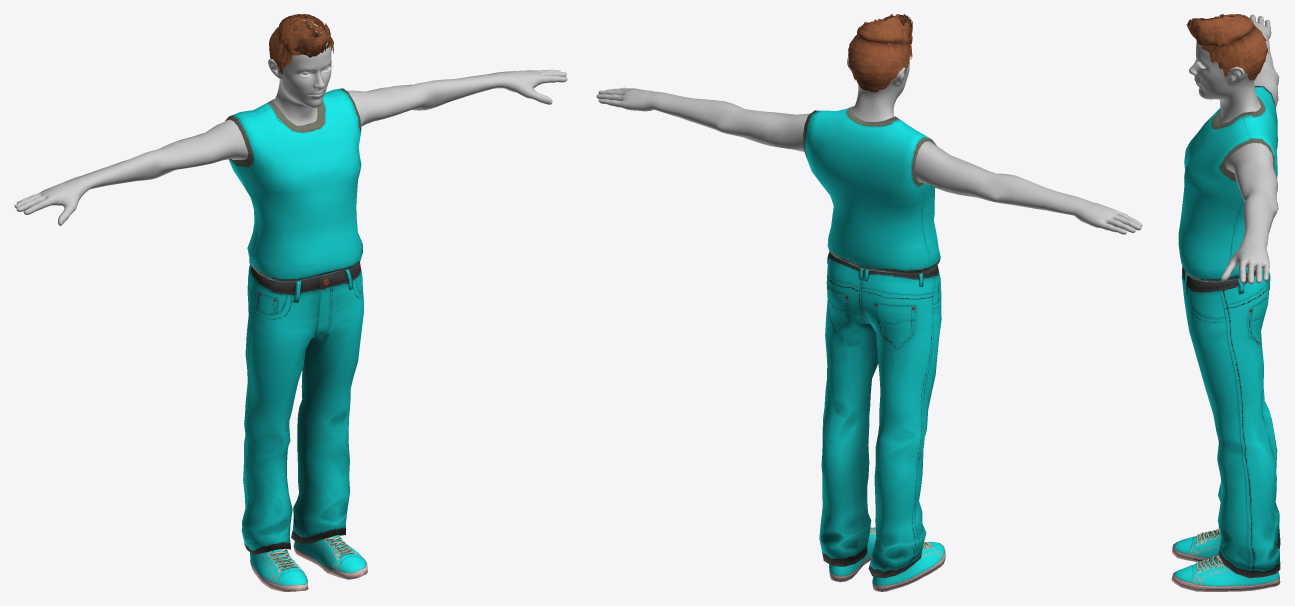
Rendered from Aren_jail.obj.
3 views of the same model, side by side, from view 1: azimuth 30°, elevation 25°; view 2: azimuth 150°, elevation 25°; view 3: azimuth 270°, elevation 25° (orthographic).
Parts seen in each view (by area): view 1: Bottoms, Tops, Body, Shoes, Hair; view 2: Bottoms, Tops, Body, Hair, Shoes; view 3: Bottoms, Tops, Body, Hair, Shoes.
Boxes of the visible parts, x1=… form: Bottoms: x1=241, y1=263, x2=363, y2=554; Tops: x1=225, y1=88, x2=362, y2=282; Body: x1=14, y1=19, x2=567, y2=225; Shoes: x1=250, y1=535, x2=367, y2=591; Hair: x1=269, y1=14, x2=333, y2=74; Bottoms: x1=819, y1=251, x2=941, y2=578; Tops: x1=803, y1=106, x2=940, y2=274; Body: x1=596, y1=35, x2=1142, y2=234; Hair: x1=848, y1=14, x2=912, y2=92; Shoes: x1=829, y1=527, x2=945, y2=591; Bottoms: x1=1181, y1=266, x2=1280, y2=578; Tops: x1=1178, y1=86, x2=1277, y2=282; Body: x1=1189, y1=14, x2=1279, y2=284; Hair: x1=1186, y1=14, x2=1268, y2=80; Shoes: x1=1171, y1=528, x2=1280, y2=591.
Bounding box in the file's own units: 183 × 176 × 31.21.
